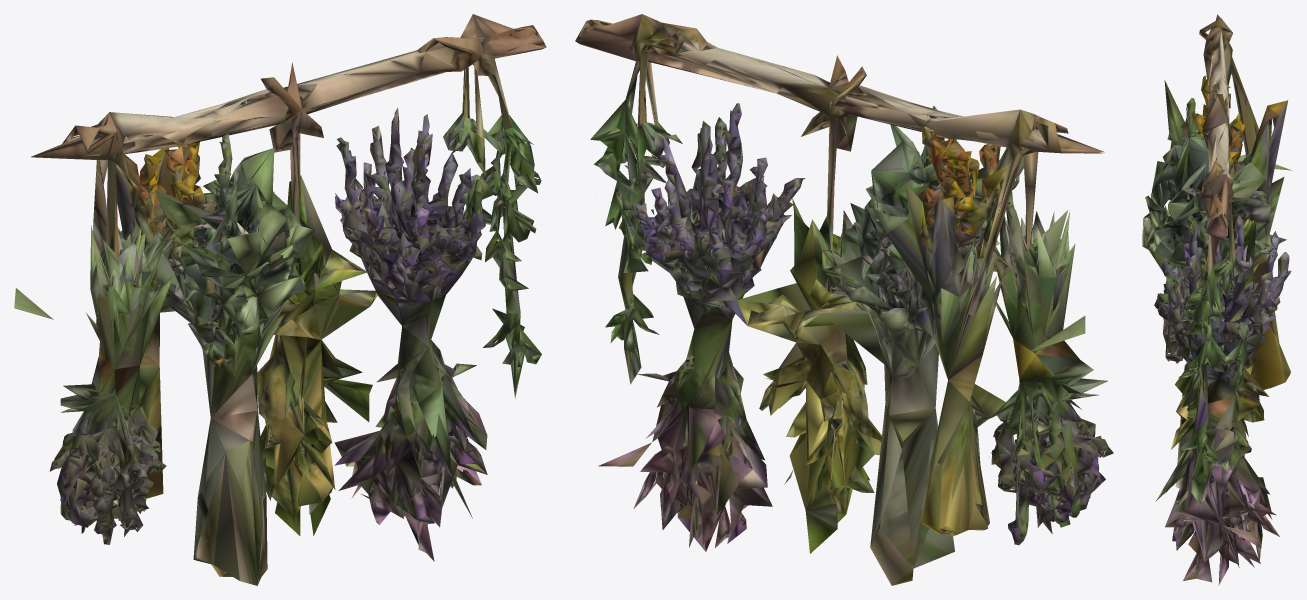
Rendered from Herbal_Harvest.glb.
3 renders of one model, left to right at view 1: azimuth 30°, elevation 25°; view 2: azimuth 150°, elevation 25°; view 3: azimuth 270°, elevation 25°, orthographic. The views are drawn at different scales.
Visible parts, largest first — view 1: Herbal_Harvest; view 2: Herbal_Harvest; view 3: Herbal_Harvest.
Boxes of the visible parts, x1=… form: Herbal_Harvest: x1=14, y1=14, x2=546, y2=585; Herbal_Harvest: x1=575, y1=14, x2=1113, y2=585; Herbal_Harvest: x1=1142, y1=14, x2=1291, y2=585.
Size of the model in its own units: 1.87 by 1.81 by 0.5629.
Materials: 1 (1 with a texture image).
